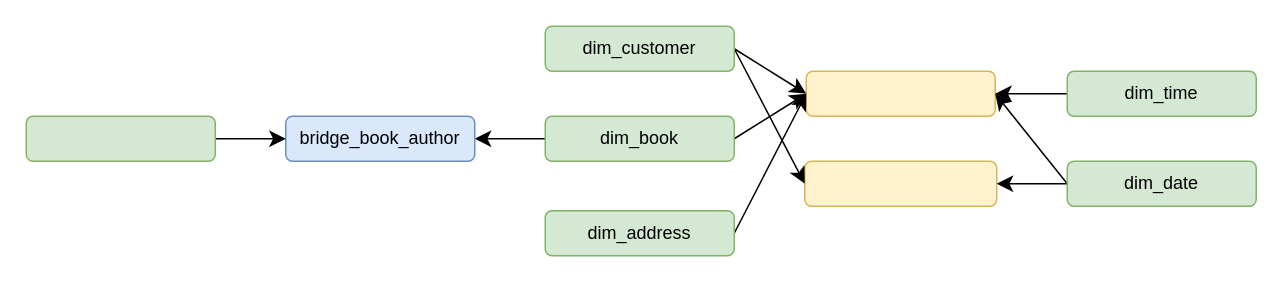
The diagram is 1283 pixels wide and 282 high, and some of its shapes have lost their labels. Here are the shapes that lost their labels. From the top down, the centre of each, then its label:
At (900,93): "fct_book_order".
At (120,138): "dim_author".
At (900,183): "fct_customer_behavior".
